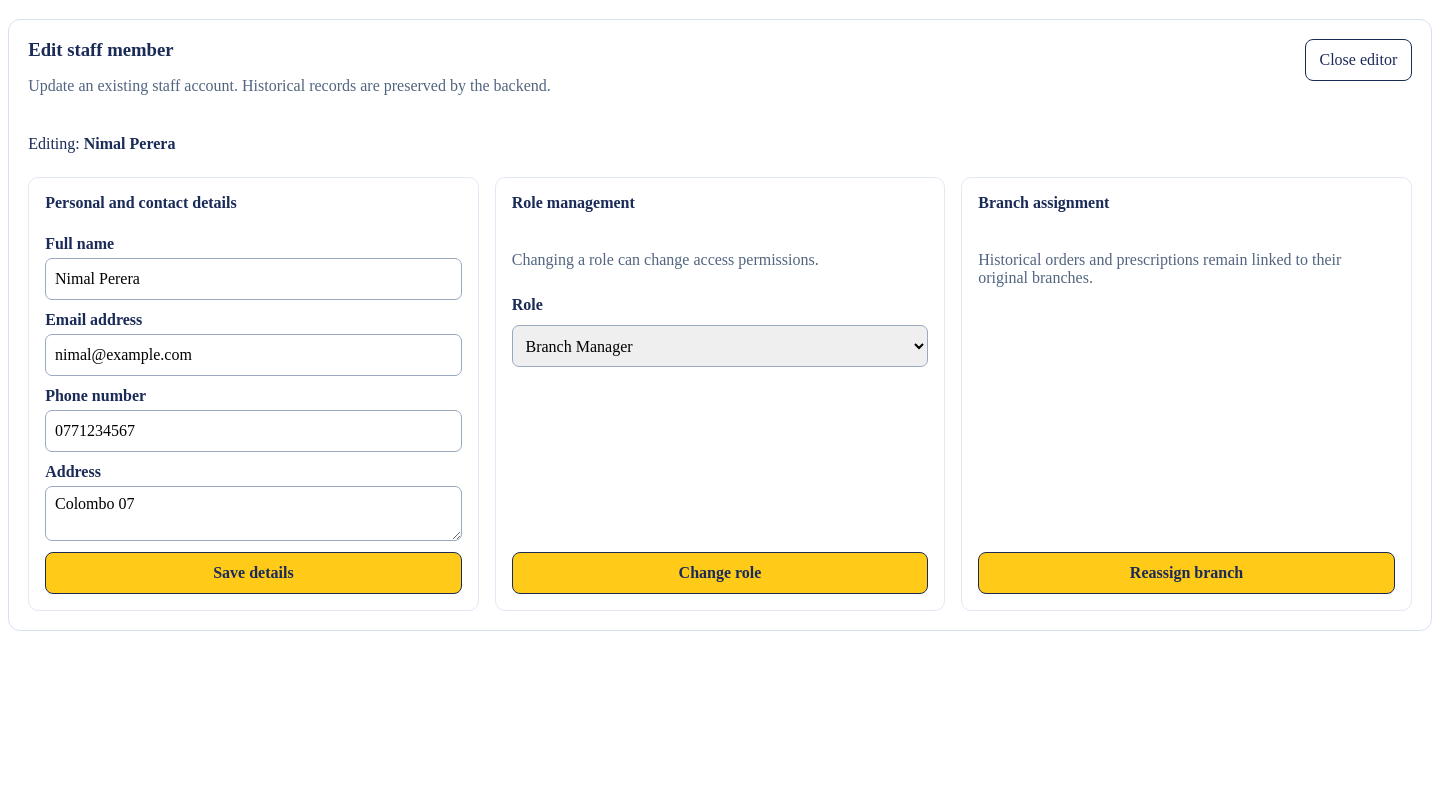
Scenario: DDP-094 staff editing › does not submit unchanged records
The width and height of the screenshot is (1440, 810).
Expected: the field showing "Nimal Perera" is shown, [45,258,462,300]
Click the button "Save details". click: point(253, 573)
box: [45,552,462,594]
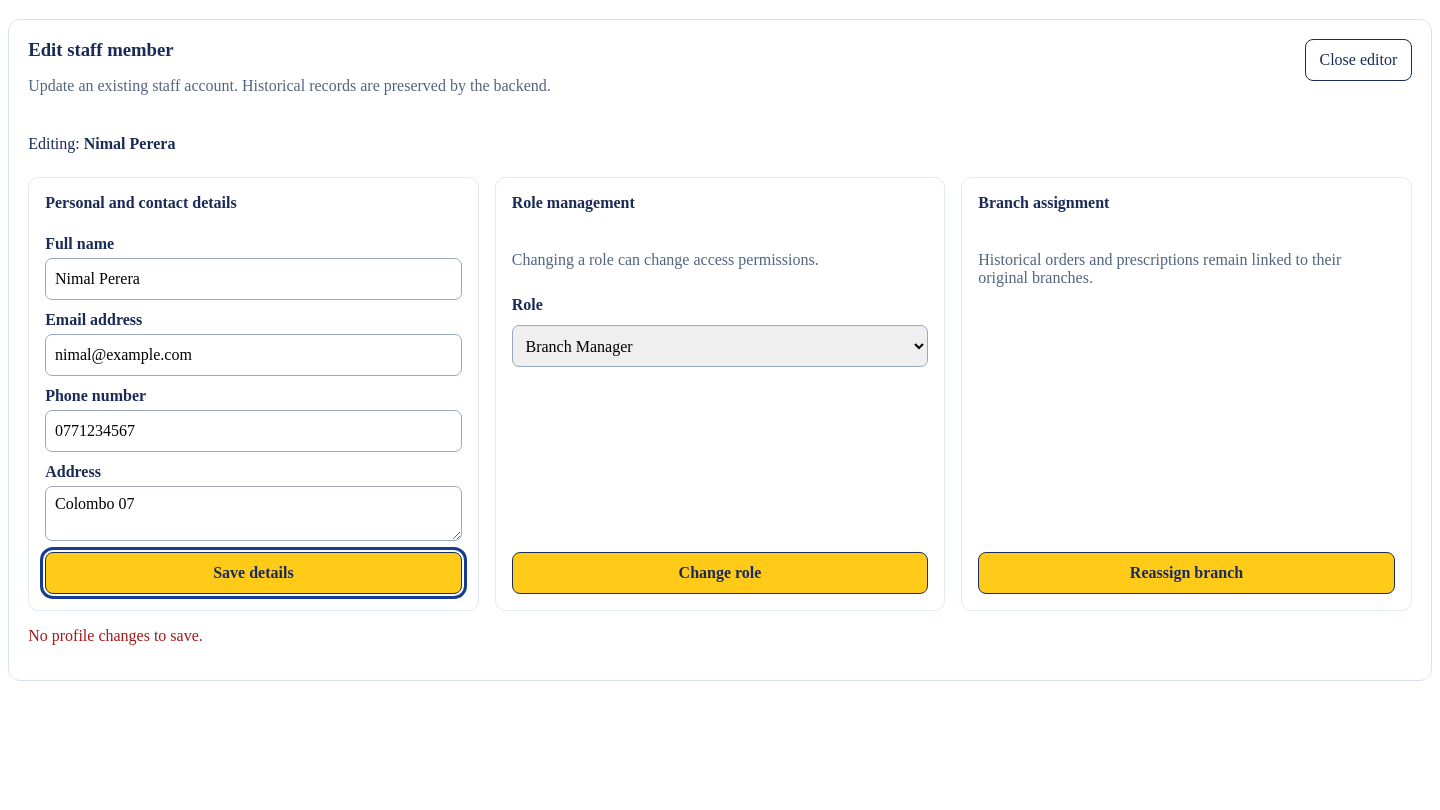
Expected: the text "No profile changes to save." is shown, [28,627,203,644]
